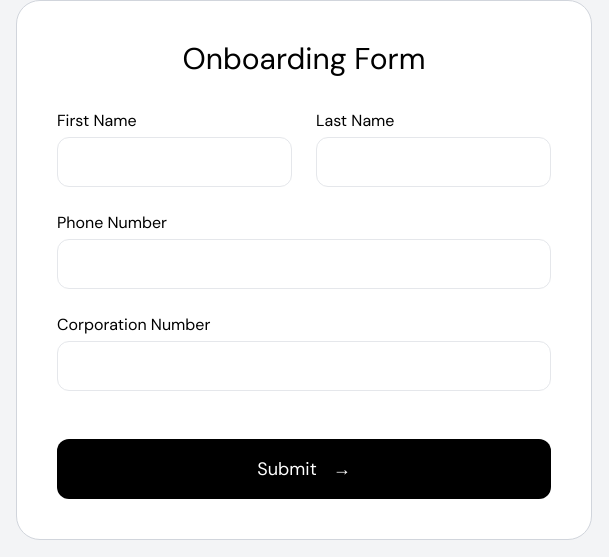
Test: OnboardForm › submits form and shows success message
The width and height of the screenshot is (609, 557).
In the field labelled "First Name": (174, 162) [57,137,292,187], type "John"
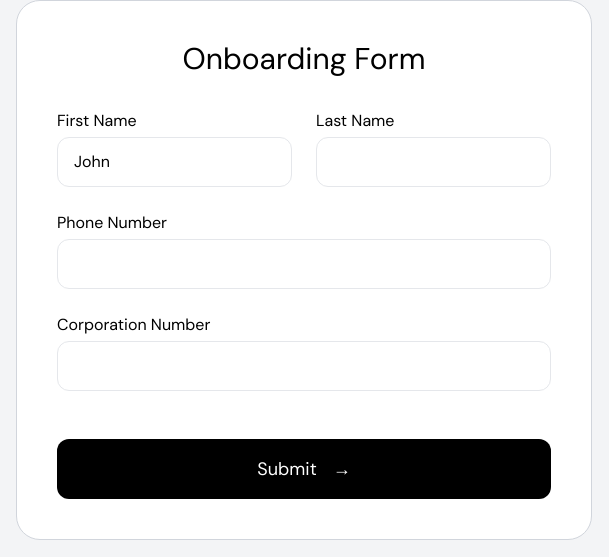
In the field labelled "Last Name": (434, 162) [316,137,551,187], type "Doe"
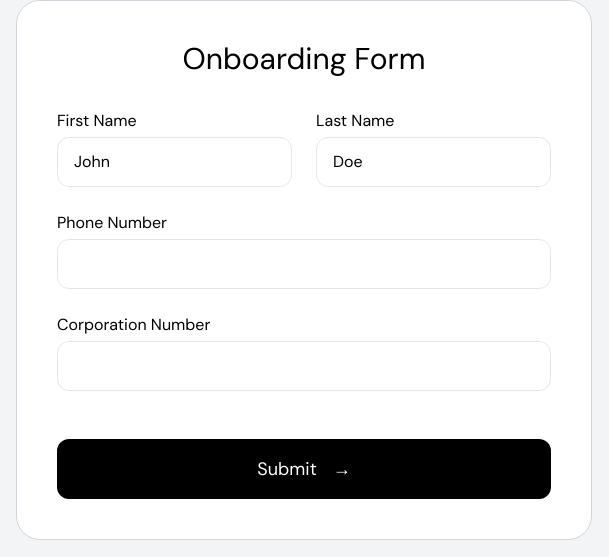
In the field labelled "Phone Number": (304, 264) [57,239,551,289], type "+11234567890"
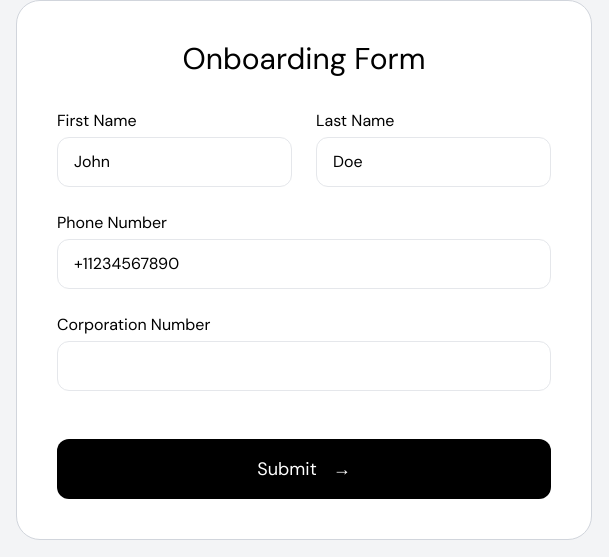
In the field labelled "Corporation Number": (304, 366) [57,341,551,391], type "123456789"
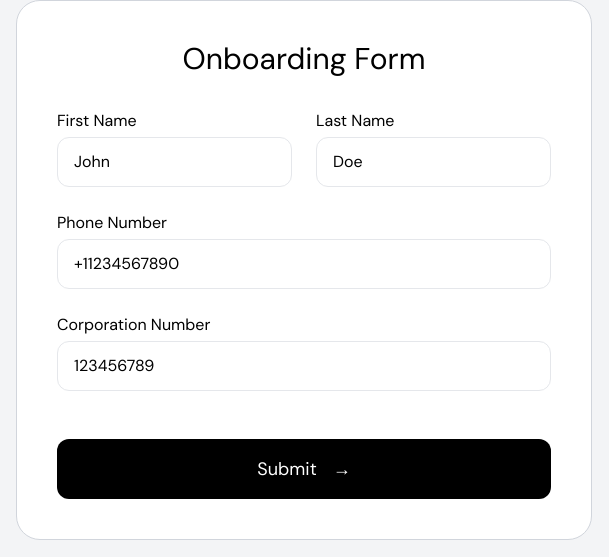
Click the button "Submit →": (304, 469) [57,439,551,499]
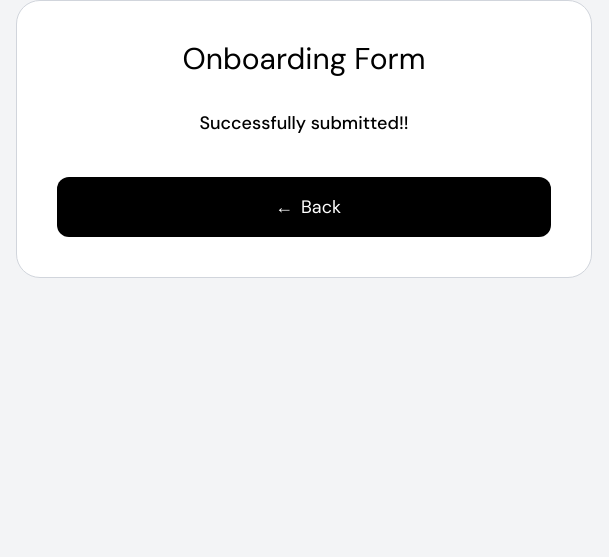
Check: the text "Successfully submitted!!" is shown, box [200,111,409,135]
